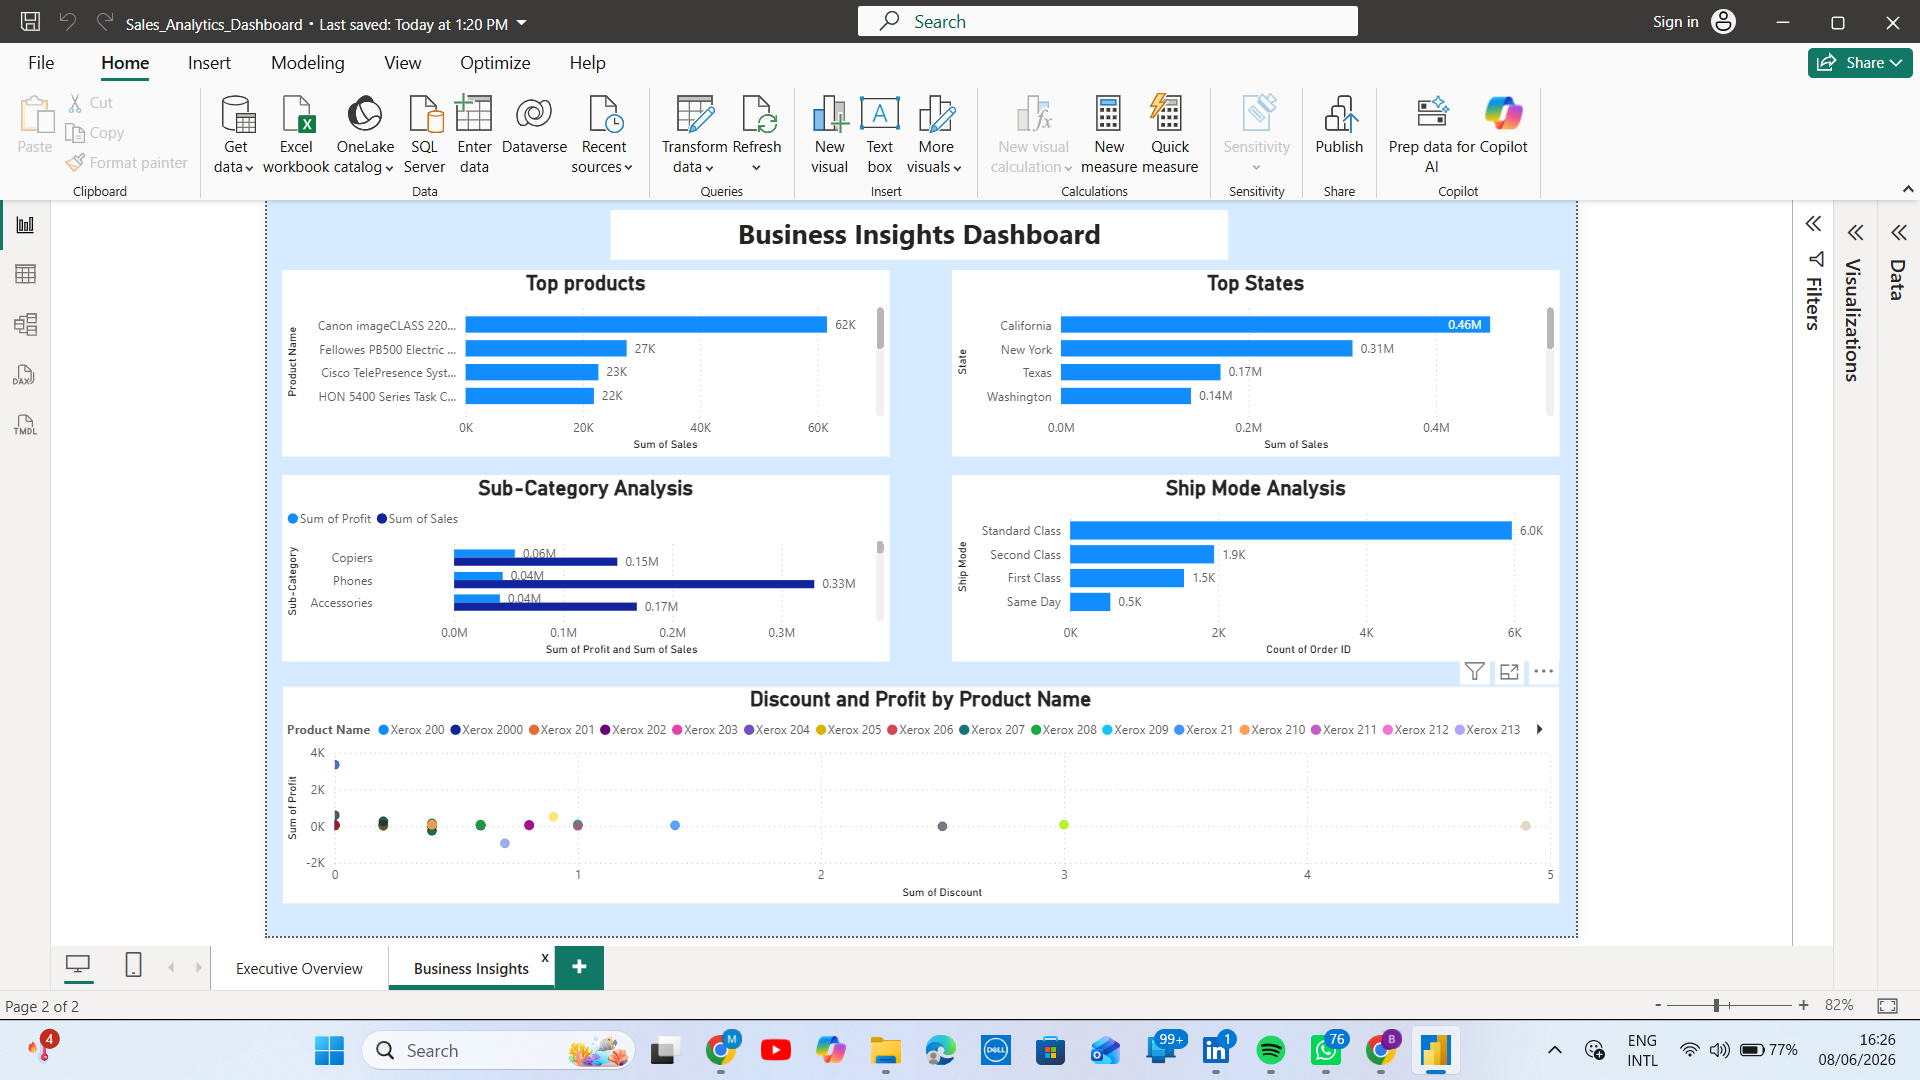

Layout of this report page (visuals, bound fields, positions):
{"tool":"powerbi","page":{"name":"Business Insights","canvas":[1280,720],"ordinal":1},"visuals":[{"type":"clusteredBarChart","title":"Top products","fields":{"Y":["Sum(Sample - Superstore.Sales)"],"Category":["Sample - Superstore.Product Name"]},"box":[14.7,68.5,594.3,182.2],"z":0},{"type":"clusteredBarChart","title":"Top States","fields":{"Category":["Sample - Superstore.State"],"Y":["Sum(Sample - Superstore.Sales)"]},"box":[670.1,68.5,594.3,182.2],"z":1000},{"type":"scatterChart","title":"Discount and Profit by Product Name","fields":{"X":["Sum(Sample - Superstore.Discount)"],"Y":["Sum(Sample - Superstore.Profit)"],"Series":["Sample - Superstore.Product Name"]},"box":[14.7,475.7,1249.7,212.8],"z":2000},{"type":"clusteredBarChart","title":"Sub-Category Analysis","fields":{"Category":["Sample - Superstore.Sub-Category"],"Y":["Sum(Sample - Superstore.Profit)","Sum(Sample - Superstore.Sales)"]},"box":[14.7,269,594.3,182.2],"z":3000},{"type":"clusteredBarChart","title":"Ship Mode Analysis","fields":{"Y":["CountNonNull(Sample - Superstore.Order ID)"],"Category":["Sample - Superstore.Ship Mode"]},"box":[670.1,269,594.3,182.2],"z":4000},{"type":"textbox","box":[336.3,9.8,604.1,48.9],"z":5000}]}

Visuals, with their boxes on the page's 1280x720 design canvas (x1, y1, x2, y2). These are canvas units, not pixel positions in the 1920x1080 screenshot, which may show the page scaled, cropped or inside an application window:
"Top products" clusteredBarChart: <bbox>15, 68, 609, 251</bbox>
"Top States" clusteredBarChart: <bbox>670, 68, 1264, 251</bbox>
"Discount and Profit by Product Name" scatterChart: <bbox>15, 476, 1264, 688</bbox>
"Sub-Category Analysis" clusteredBarChart: <bbox>15, 269, 609, 451</bbox>
"Ship Mode Analysis" clusteredBarChart: <bbox>670, 269, 1264, 451</bbox>
textbox: <bbox>336, 10, 940, 59</bbox>
